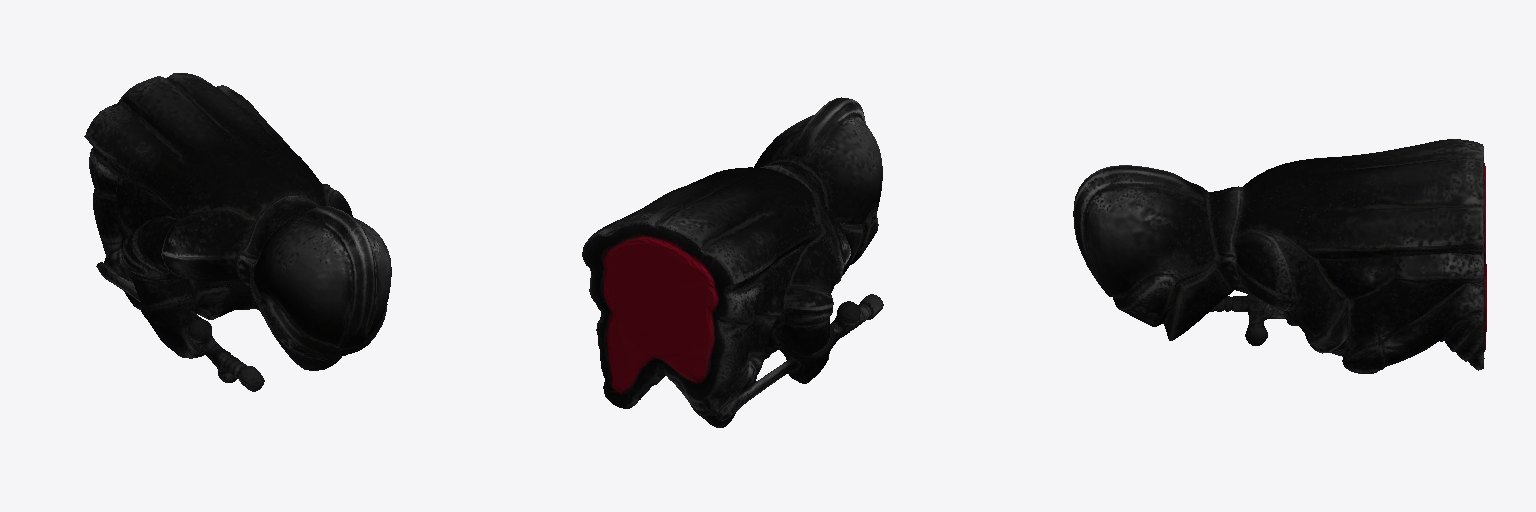
3 views of the same model, side by side, from view 1: azimuth 30°, elevation 25°; view 2: azimuth 150°, elevation 25°; view 3: azimuth 270°, elevation 25° (orthographic).
Visible parts, largest first — view 1: mmGroup0; view 2: mmGroup0; view 3: mmGroup0.
Part boxes in pixels (left/top/right/bottom): mmGroup0: left=84, top=73, right=391, bottom=391; mmGroup0: left=582, top=97, right=883, bottom=427; mmGroup0: left=1073, top=139, right=1486, bottom=373.
Size of the model in its own units: 3.75 by 4.1 by 7.11.
Materials: 1 (1 with a texture image).